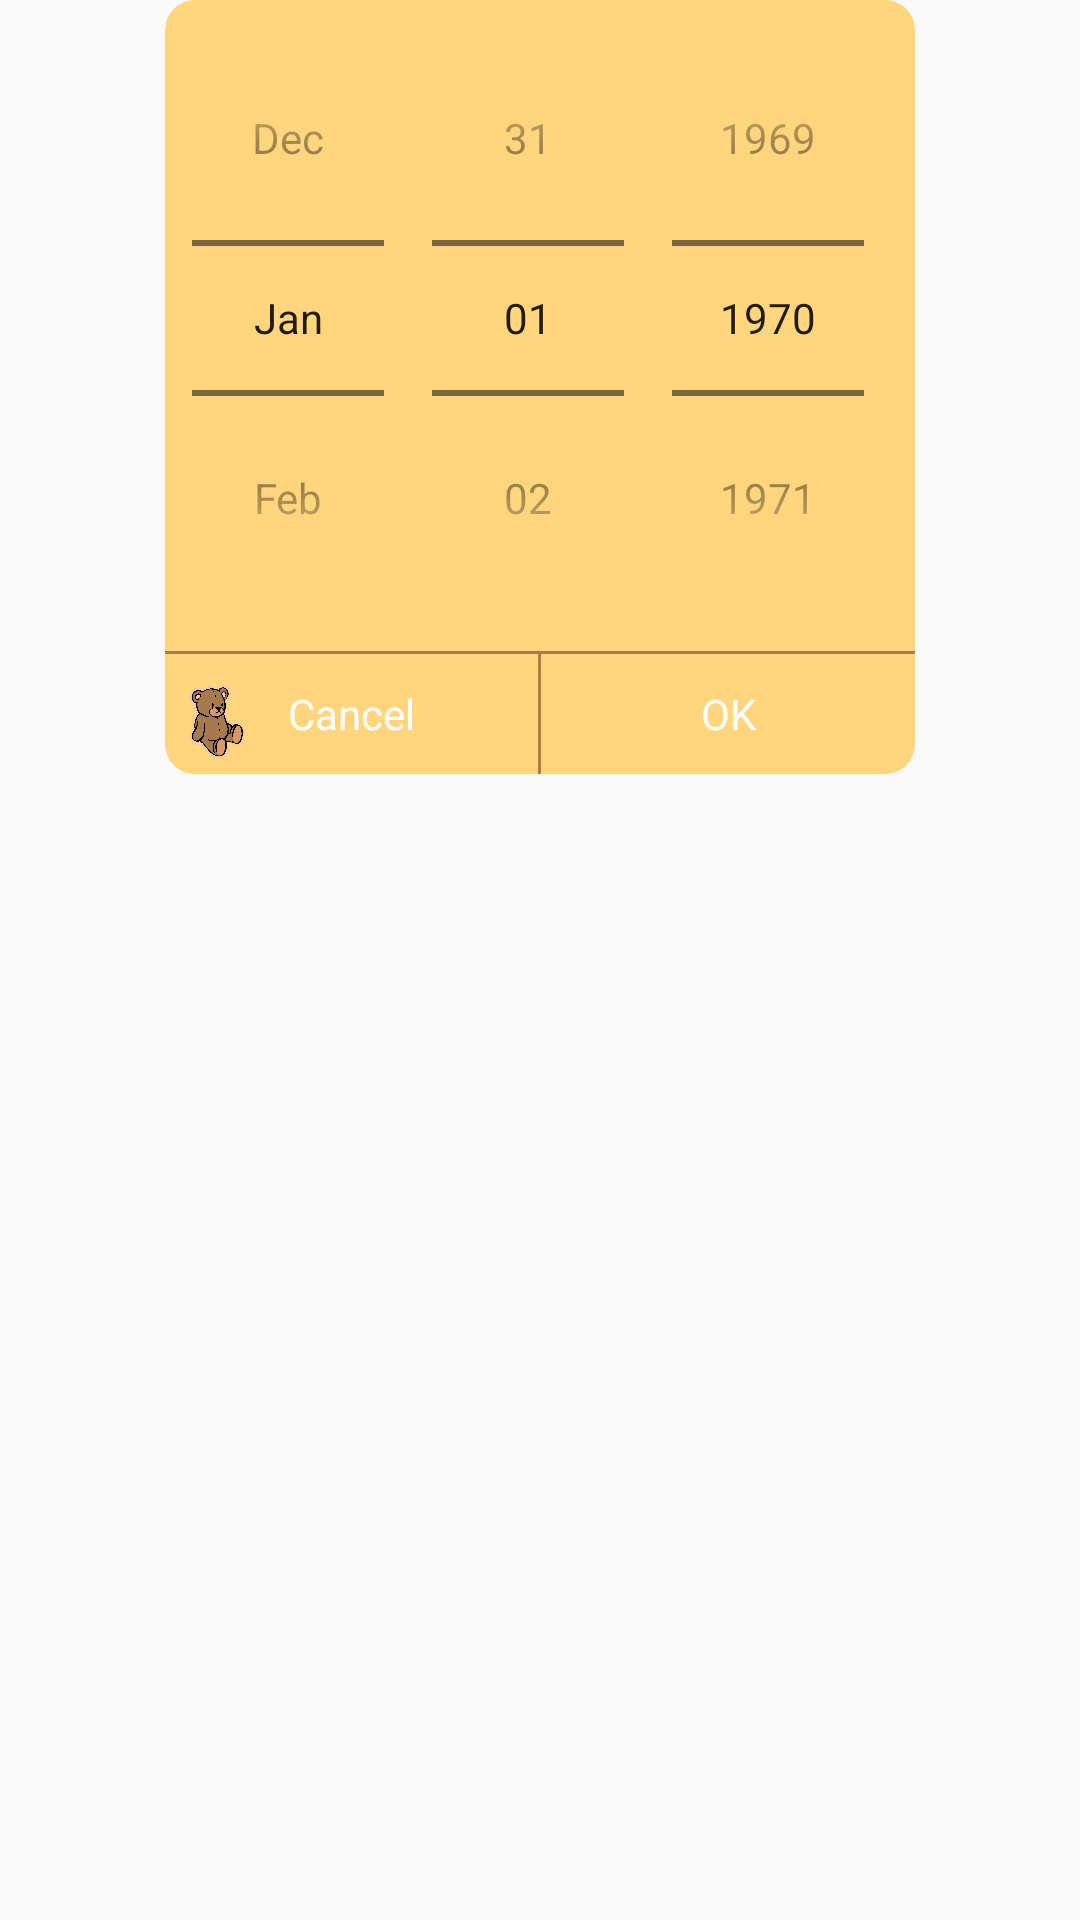

Icon bounding boxes for this 1080px x 1920px phone screenshot, format [x1,y1,x2,y2]:
bear: [189,685,245,758]
